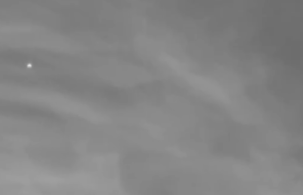Target: (28, 64, 32, 68)
